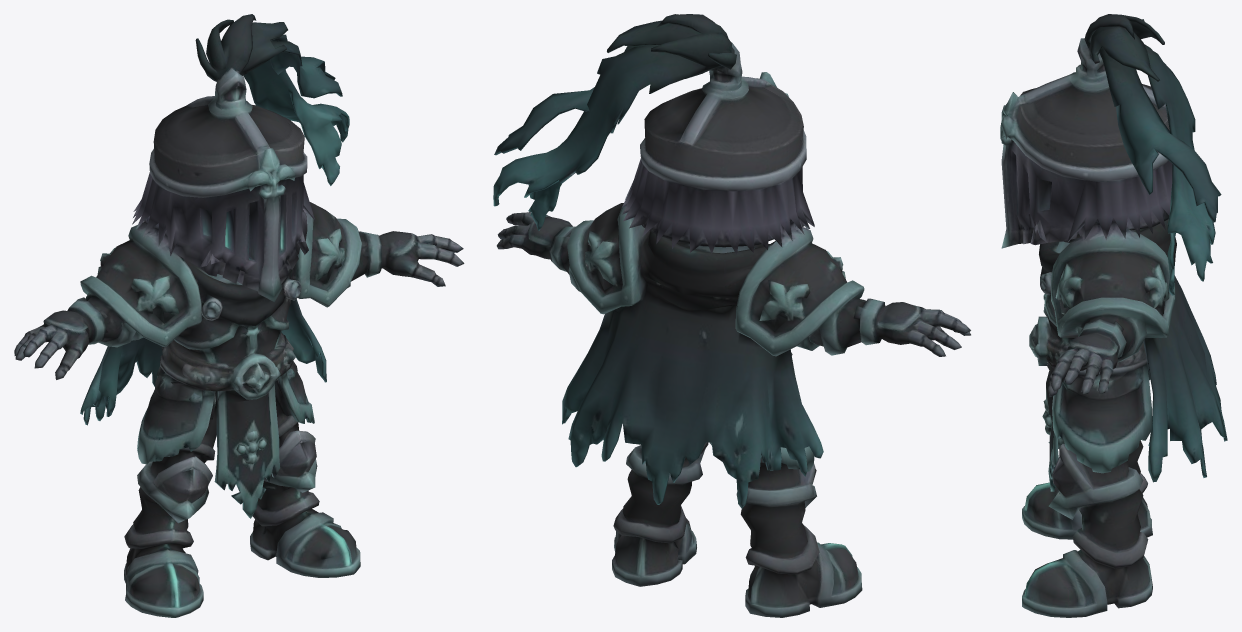
File: retopo.glb
The picture shows the model from 3 angles, left to right: view 1: azimuth 30°, elevation 25°; view 2: azimuth 150°, elevation 25°; view 3: azimuth 270°, elevation 25°; orthographic projection. The views are drawn at different scales.
Visible parts, largest first — view 1: tripo_node_1db0ebd8-9432-4232-a367-3e13c7515670; view 2: tripo_node_1db0ebd8-9432-4232-a367-3e13c7515670; view 3: tripo_node_1db0ebd8-9432-4232-a367-3e13c7515670.
Part boxes in pixels (bbox=[...]): tripo_node_1db0ebd8-9432-4232-a367-3e13c7515670: bbox=[14, 14, 464, 617]; tripo_node_1db0ebd8-9432-4232-a367-3e13c7515670: bbox=[493, 14, 970, 617]; tripo_node_1db0ebd8-9432-4232-a367-3e13c7515670: bbox=[1000, 14, 1227, 617].
Size of the model in its own units: 0.8391 by 0.9767 by 0.3612.
1 material, 1 textured.
